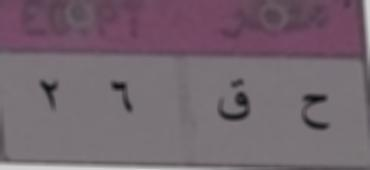2: (36, 74, 63, 118)
6: (105, 72, 138, 121)
7aa: (293, 85, 337, 140)
qaaf: (214, 74, 254, 132)
